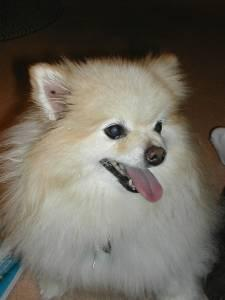dog-pomeranian: (28, 53, 183, 201)
